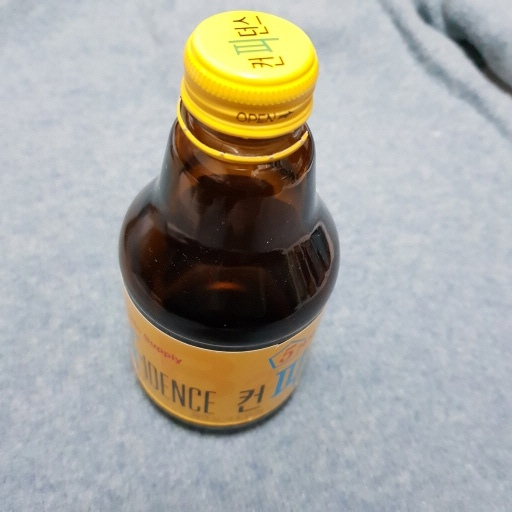Glass_3: (115, 6, 337, 434)
